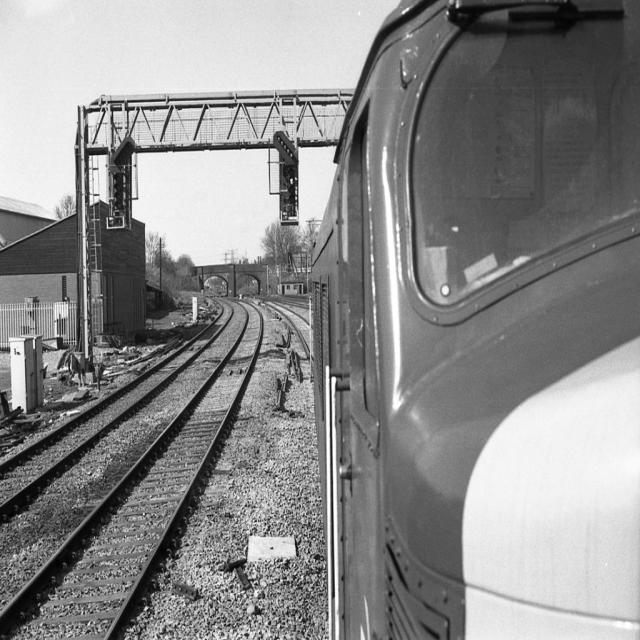car: (260, 0, 628, 638)
